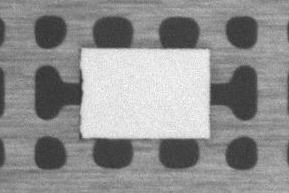DIE_BROKEN: (76, 68, 85, 104)
